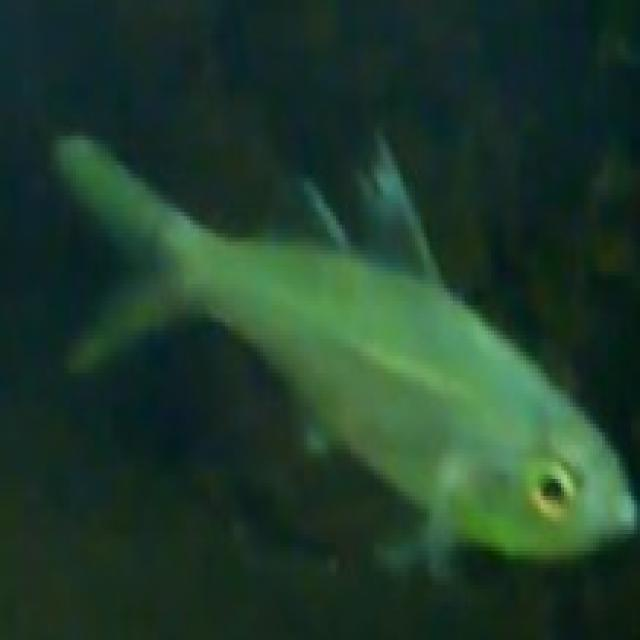Glass-Perchlet: (27, 64, 640, 608)
